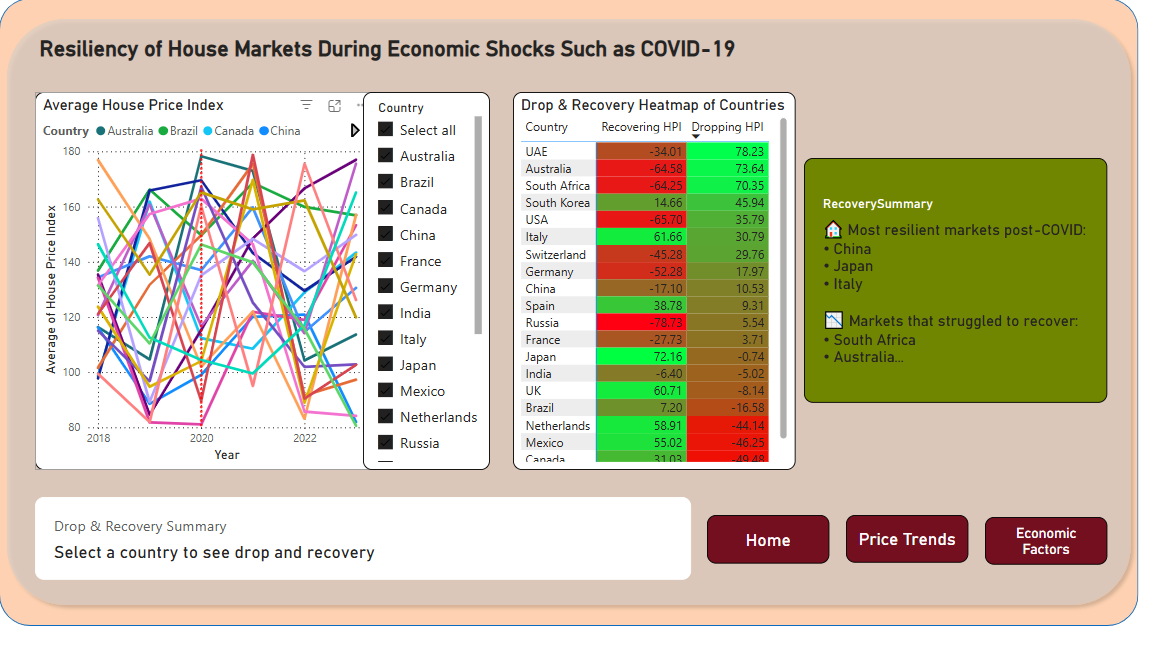

What the dashboard file says about the page in this screenshot:
{"tool":"powerbi","page":{"name":"COVID-19","canvas":[1280,720],"ordinal":3},"visuals":[{"type":"shape","box":[0,18.2,1266.4,698],"z":0},{"type":"shape","box":[0,32.5,1266.2,668.8],"z":1000},{"type":"textbox","box":[40,55,858.8,91.2],"z":2000},{"type":"lineChart","title":"Average House Price Index","fields":{"Category":["House_Market_Price_2018-2023.Year"],"Y":["Avg(House_Market_Price_2018-2023.House Price Index)"],"Series":["House_Market_Price_2018-2023.Country"]},"box":[40,122.5,378.8,420],"z":3000},{"type":"image","box":[591.1,55.6,667.8,664.4],"z":3500},{"type":"slicer","fields":{"Values":["House_Market_Price_2018-2023.Country"]},"box":[404.4,122.2,141.1,420],"z":4000},{"type":"pivotTable","title":"Drop & Recovery Heatmap of Countries","fields":{"Values":["Max(House_Market_Price (Pivoted 2018-2023).HPI_Recovery)","Min(House_Market_Price (Pivoted 2018-2023).HPI_Drop)"],"Rows":["House_Market_Price (Pivoted 2018-2023).Country"]},"box":[571.1,122.2,314.4,420],"z":5000},{"type":"actionButton","box":[786.2,592.5,136.2,53.8],"z":6000},{"type":"actionButton","box":[941.2,592.5,136.2,52.5],"z":7000},{"type":"actionButton","box":[1095.9,593.9,135.7,52.9],"z":8000},{"type":"cardVisual","fields":{"Data":["House_Market_Price (Pivoted 2018-2023).Drop & Recovery Summary"]},"box":[40,572.2,728.9,92.2],"z":9000},{"type":"cardVisual","fields":{"Data":["House_Market_Price (Pivoted 2018-2023).RecoverySummary"]},"box":[894.4,195.6,336.7,272.2],"z":10000}]}

Visuals, with their boxes in screenshot pixels (x1, y1, x2, y2), scaled from the page's 1280x720 canvas onto the 1152x648 screenshot:
shape: locate(0, 16, 1140, 645)
shape: locate(0, 29, 1140, 631)
textbox: locate(36, 50, 809, 132)
"Average House Price Index" lineChart: locate(36, 110, 377, 488)
image: locate(532, 50, 1133, 647)
slicer - House_Market_Price_2018-2023.Country: locate(364, 110, 491, 488)
"Drop & Recovery Heatmap of Countries" pivotTable: locate(514, 110, 797, 488)
actionButton: locate(708, 533, 830, 582)
actionButton: locate(847, 533, 970, 580)
actionButton: locate(986, 535, 1108, 582)
cardVisual - House_Market_Price (Pivoted 2018-2023).Drop & Recovery Summary: locate(36, 515, 692, 598)
cardVisual - House_Market_Price (Pivoted 2018-2023).RecoverySummary: locate(805, 176, 1108, 421)
